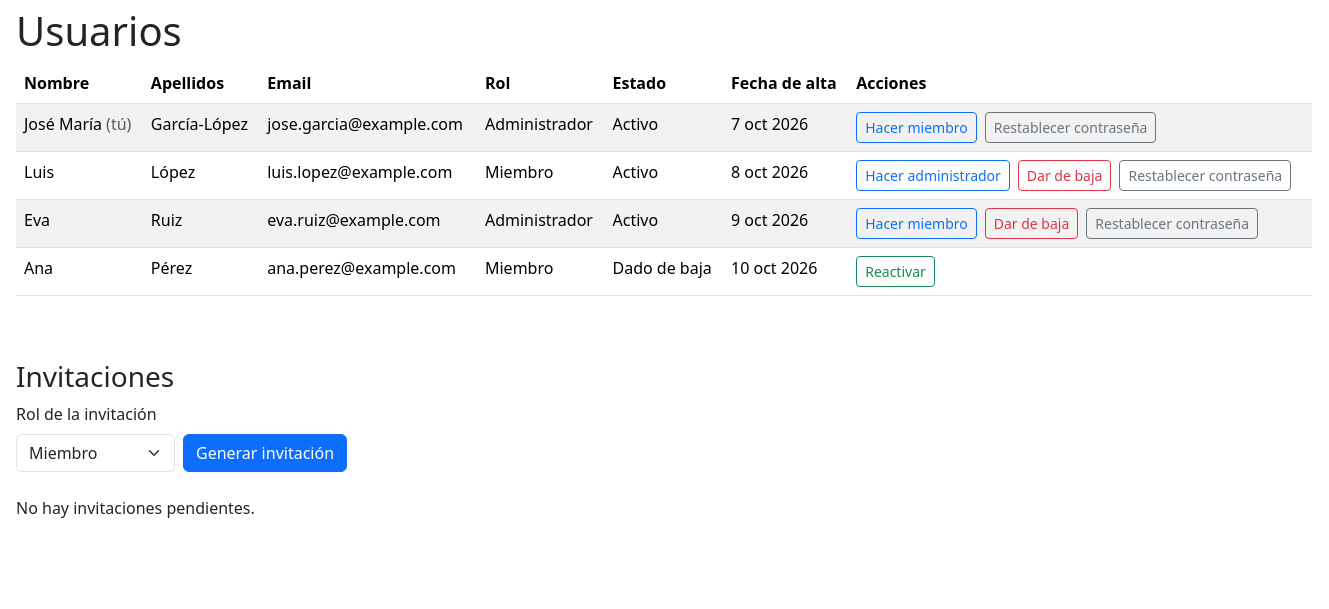
UsersPage actions › when the server rejects the action › shows the lastAdminRequired message in an alert and leaves the row as it was
Click the button "Hacer administrador".
click(933, 176)  # box [856,160,1010,191]
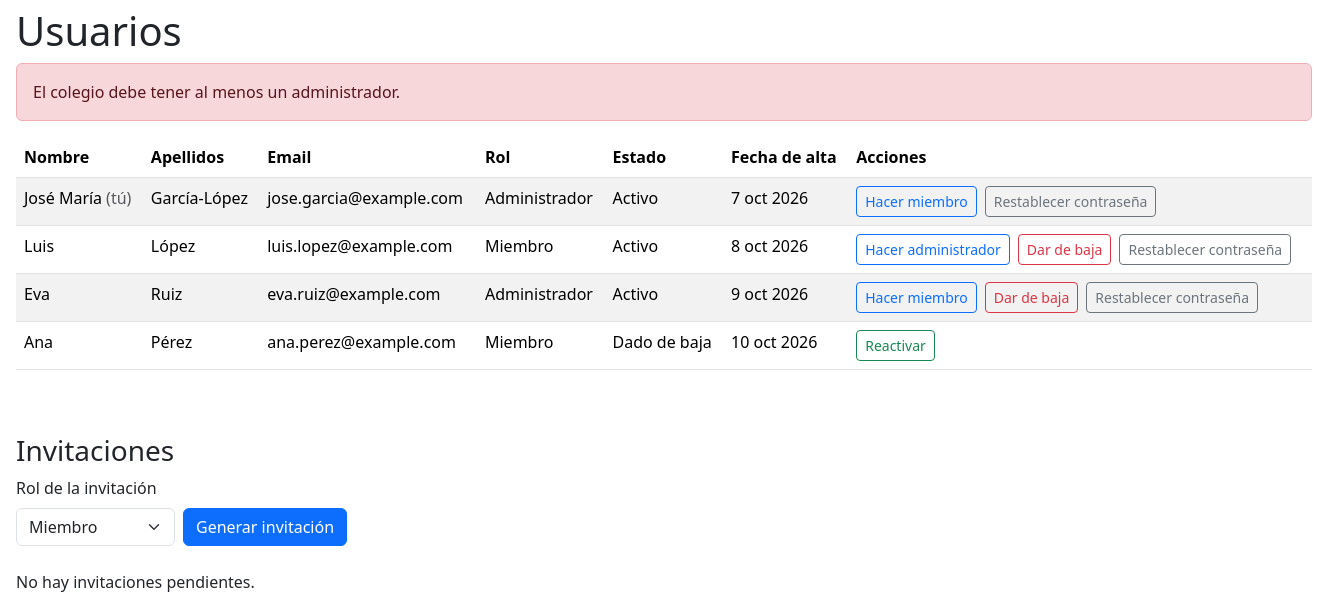
Expected: the text "luis.lopez@example.com" shows "Miembro", [485,235,553,257]
Result: the message reads "El colegio debe tener al menos un administrador." at [33,81,400,103]
